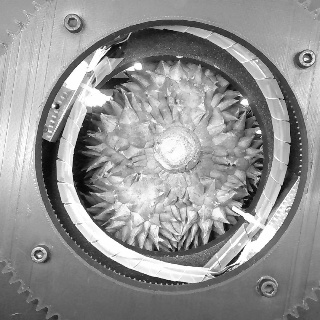base: (152, 125, 204, 175)
end: (159, 136, 187, 166)
